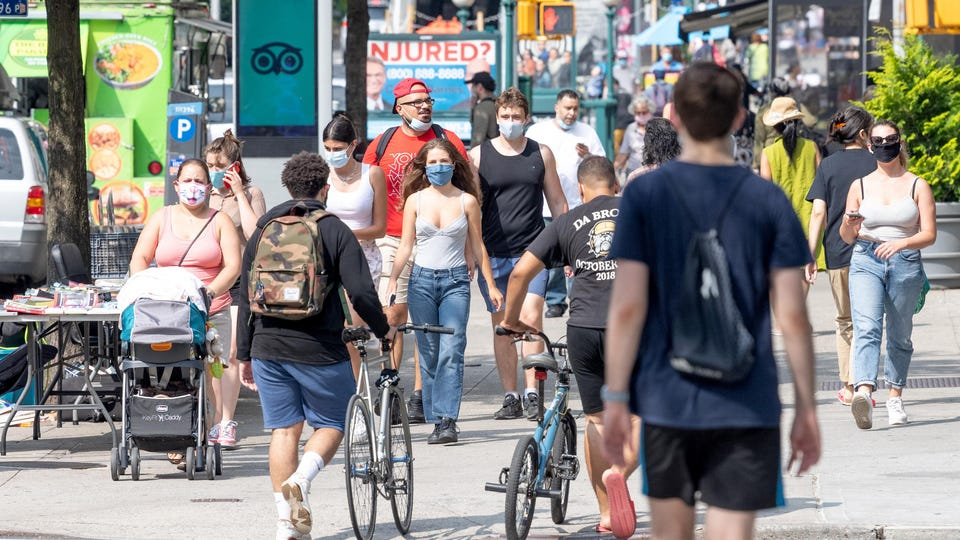with_incorrect_mask: (404, 91, 435, 130), (557, 95, 579, 131)
with_mask: (870, 128, 903, 169), (177, 166, 207, 204), (423, 152, 455, 185), (323, 134, 352, 167), (498, 106, 524, 139)
